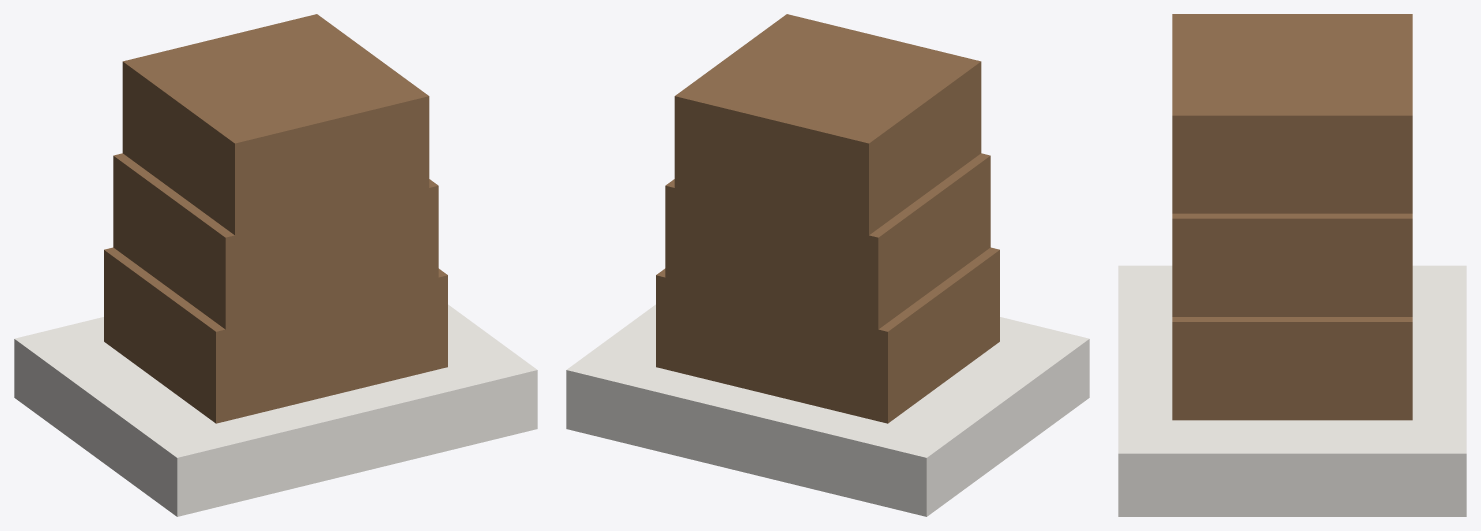
Rendered from storage_cabinet-lv3.glb.
3 renders of one model, left to right at view 1: azimuth 30°, elevation 25°; view 2: azimuth 150°, elevation 25°; view 3: azimuth 270°, elevation 25°, orthographic. The views are drawn at different scales.
Visible parts, largest first — view 1: Base, Level3, Level1, Level2; view 2: Base, Level3, Level1, Level2; view 3: Base, Level3, Level1, Level2.
Boxes of the visible parts, x1,y1,x2,y2 form: Base: (14, 304, 537, 516); Level3: (122, 14, 429, 235); Level1: (104, 247, 447, 423); Level2: (113, 153, 438, 329); Base: (566, 304, 1089, 516); Level3: (674, 14, 981, 235); Level1: (656, 247, 999, 423); Level2: (665, 153, 990, 329); Base: (1118, 265, 1466, 516); Level3: (1172, 14, 1412, 213); Level1: (1172, 317, 1412, 420); Level2: (1172, 213, 1412, 316).
Bounding box in the file's own units: 1.15 × 1.02 × 0.9.
